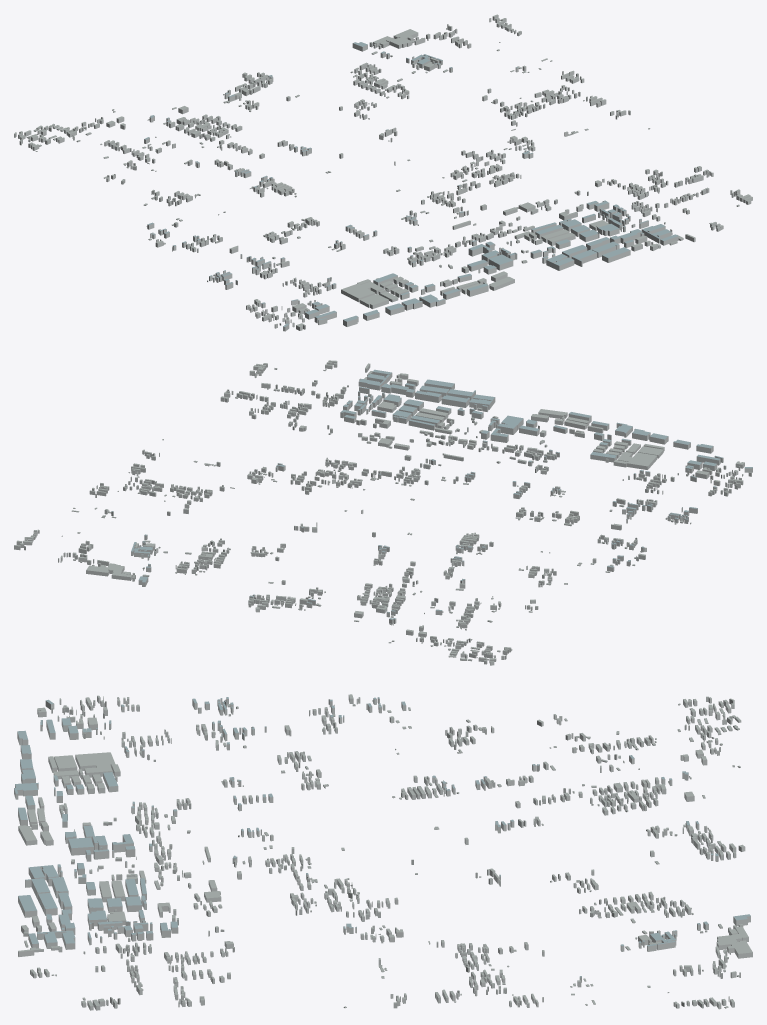
The model's file is far.glb.
3 views of the same model, one above another, from view 1: azimuth 30°, elevation 25°; view 2: azimuth 150°, elevation 25°; view 3: azimuth 270°, elevation 25° (orthographic). The views are drawn at different scales.
Size of the model in its own units: 2123 by 26.5 by 2133.
